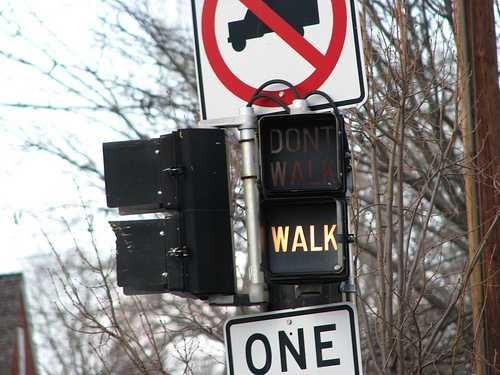green: (267, 193, 339, 273)
